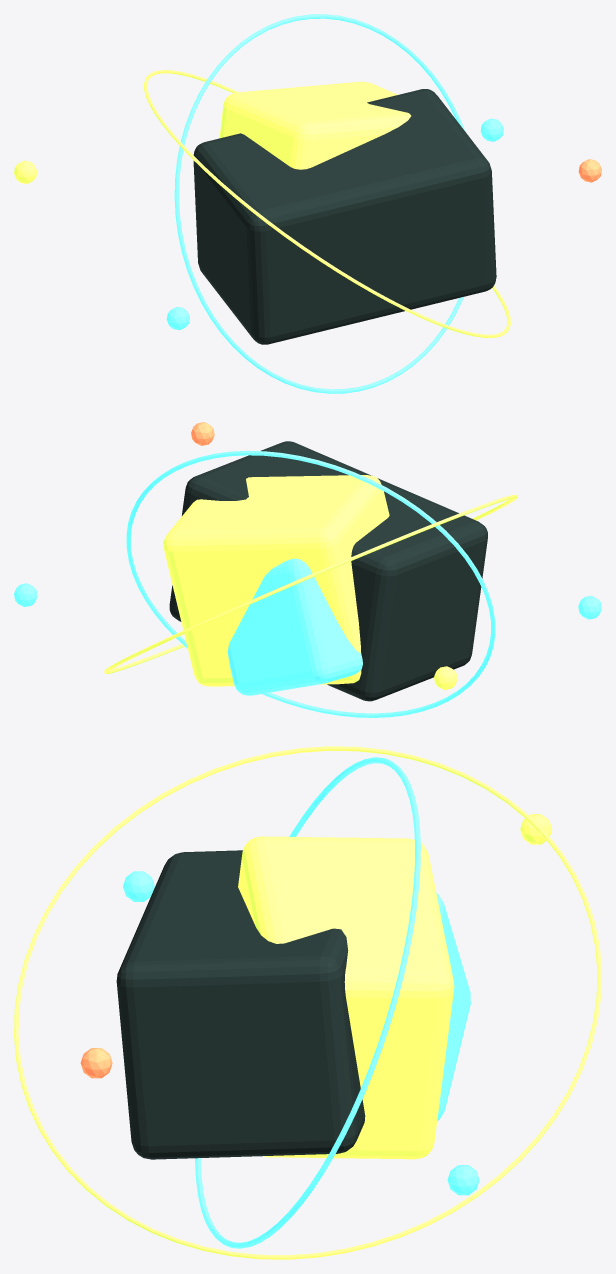
File: portfolio-core.glb
3 renders of one model, top to bottom at view 1: azimuth 30°, elevation 25°; view 2: azimuth 150°, elevation 25°; view 3: azimuth 270°, elevation 25°, orthographic. The views are drawn at different scales.
Parts seen in each view (by area): view 1: Core foundation, Core signal, Orbit horizontal, Orbit diagonal; view 2: Core foundation, Core signal, Core interface, Orbit horizontal, Orbit diagonal, Connection node 4, Connection node 1, Connection node 2, Connection node 3; view 3: Core foundation, Core signal, Orbit diagonal, Orbit horizontal, Core interface, Connection node 3, Connection node 2, Connection node 4.
Boxes of the visible parts, <box> form: Core foundation: <box>193,89,496,344</box>; Core signal: <box>219,81,411,169</box>; Orbit horizontal: <box>174,14,464,393</box>; Orbit diagonal: <box>144,70,510,337</box>; Core foundation: <box>169,441,487,701</box>; Core signal: <box>163,475,389,686</box>; Core interface: <box>227,558,362,695</box>; Orbit horizontal: <box>126,450,495,717</box>; Orbit diagonal: <box>104,494,517,673</box>; Connection node 4: <box>578,595,601,619</box>; Connection node 1: <box>434,666,457,689</box>; Connection node 2: <box>14,583,37,606</box>; Connection node 3: <box>191,422,214,445</box>; Core foundation: <box>116,850,365,1159</box>; Core signal: <box>238,836,454,1159</box>; Orbit diagonal: <box>14,746,601,1259</box>; Orbit horizontal: <box>195,757,420,1248</box>; Core interface: <box>436,893,470,1120</box>; Connection node 3: <box>80,1048,112,1078</box>; Connection node 2: <box>447,1165,479,1195</box>; Connection node 4: <box>123,871,154,901</box>.
Bounding box in the file's own units: 4.23 × 2.78 × 3.48.
